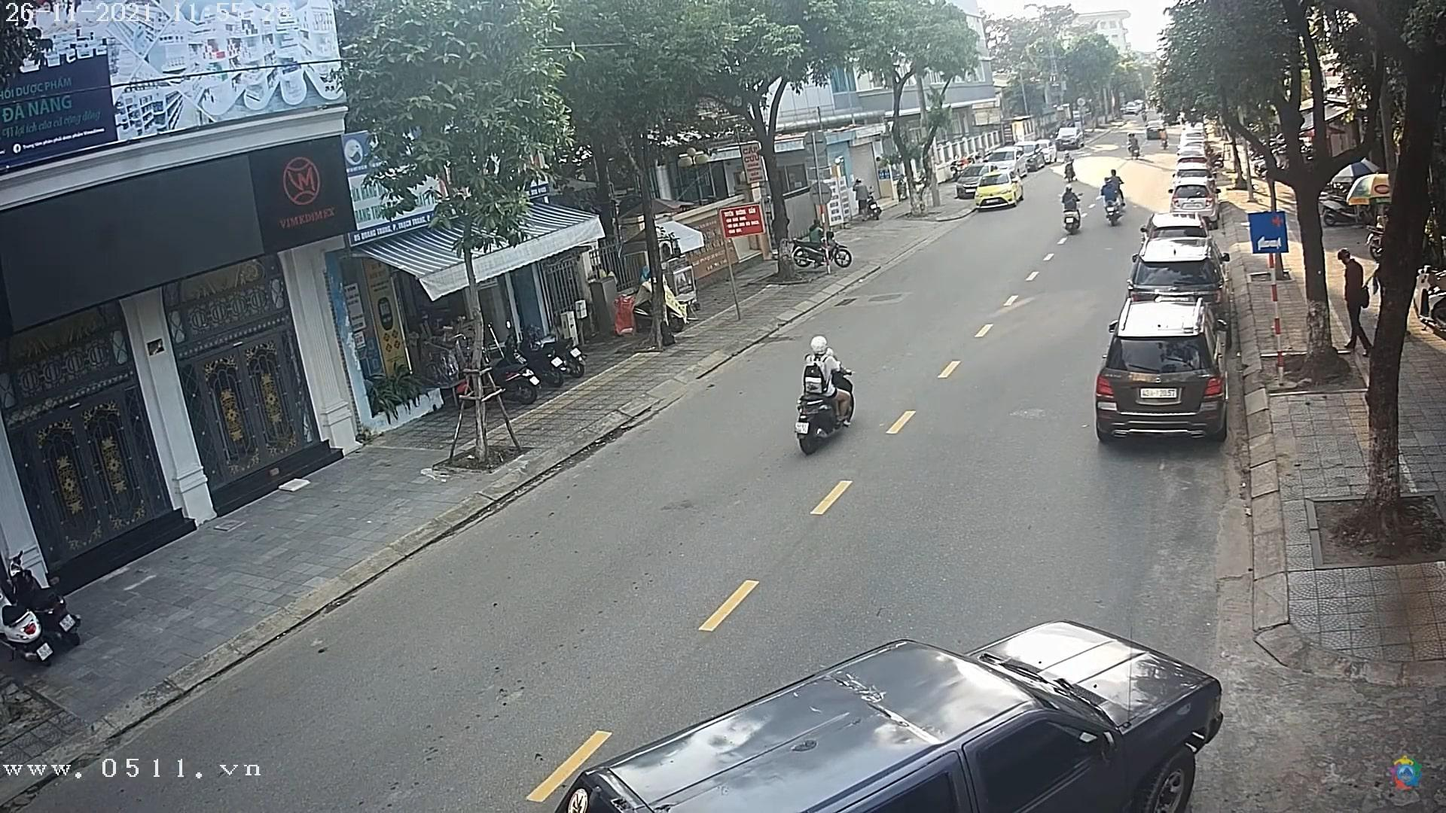car: (1097, 301, 1227, 442), (1128, 242, 1227, 303), (1133, 224, 1214, 273), (976, 172, 1024, 214)
motorbike: (789, 367, 861, 451), (1063, 204, 1084, 239)
